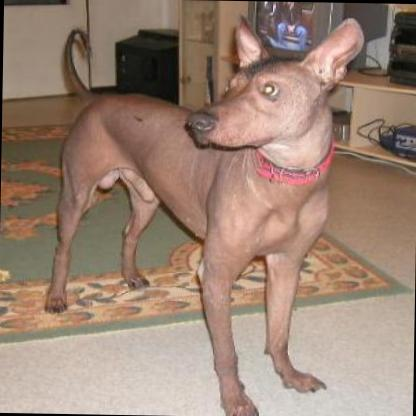Mexican_hairless: (35, 6, 372, 416)
